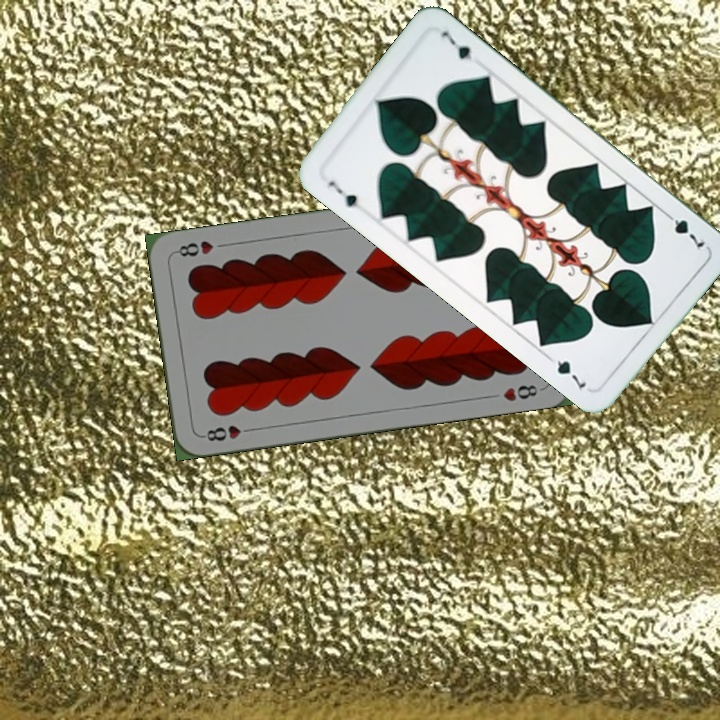G7: (659, 208, 708, 251), (324, 176, 365, 215)
H8: (198, 421, 257, 444)
